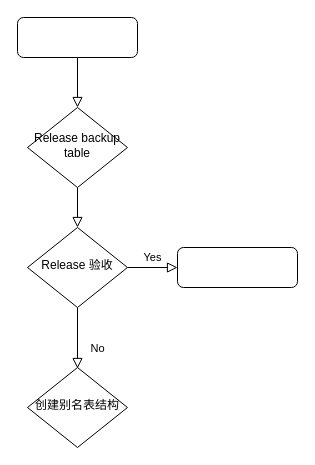
Image size: 315x465. Some labels were removed from this diagram. Here are the shapes that lost their labels. From the top down, the centre of each, then its label:
the point at 77,37: Release
the point at 237,267: Finished release
